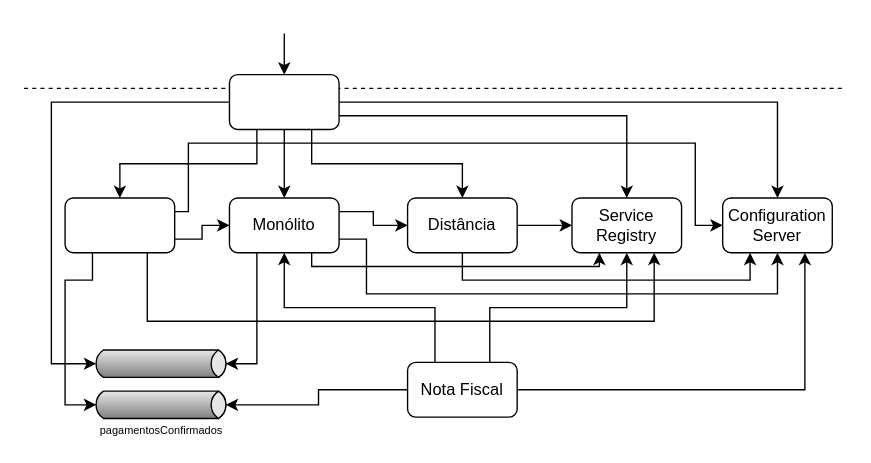
Image size: 871x463. Some labels were removed from this diagram. Here are the shapes that lost their labels. From the top down, the centre of each, then its label:
the point at 283,101: API Gateway
the point at 119,225: Pagamentos
the point at 160,363: pedidoComStatusAtualizaddo
